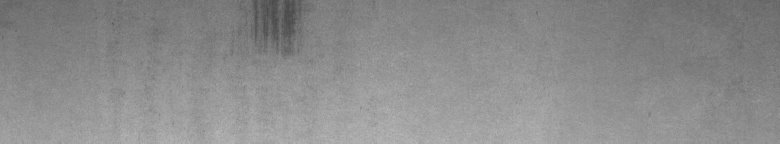ka: (244, 4, 304, 56)
